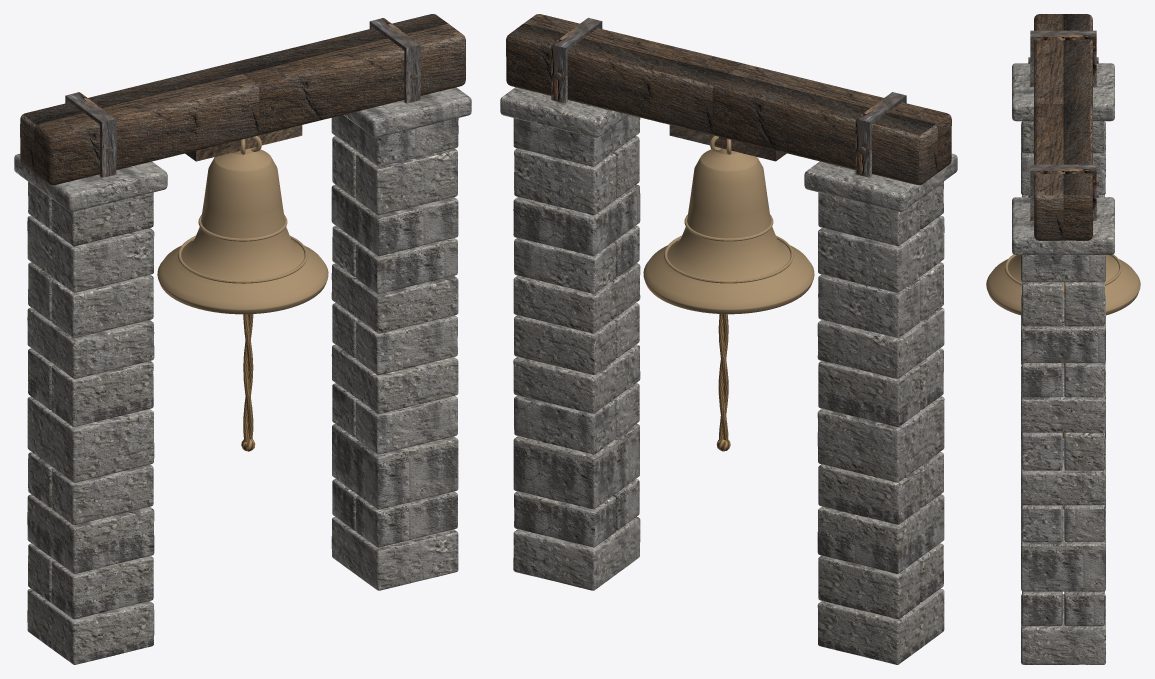
File: bell-cote-v02.glb
3 views of the same model, side by side, from view 1: azimuth 30°, elevation 25°; view 2: azimuth 150°, elevation 25°; view 3: azimuth 270°, elevation 25° (orthographic). The views are drawn at different scales.
Visible parts, largest first — view 1: bell-cote; view 2: bell-cote; view 3: bell-cote.
Part boxes in pixels (bbox=[...]): bell-cote: bbox=[14, 14, 471, 664]; bell-cote: bbox=[500, 14, 957, 664]; bell-cote: bbox=[986, 14, 1140, 664].
Bounding box in the file's own units: 2.36 × 2.87 × 0.838.
5 materials, 4 textured.
